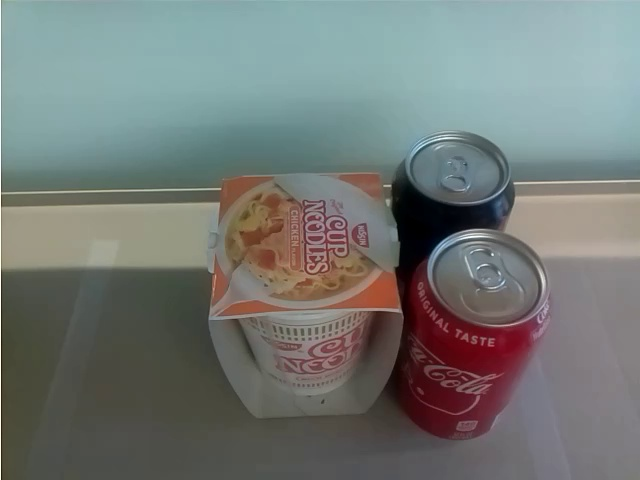cocacola: (406, 231, 551, 448)
cocacola-zero: (394, 129, 515, 252)
noodles: (202, 171, 405, 421)
